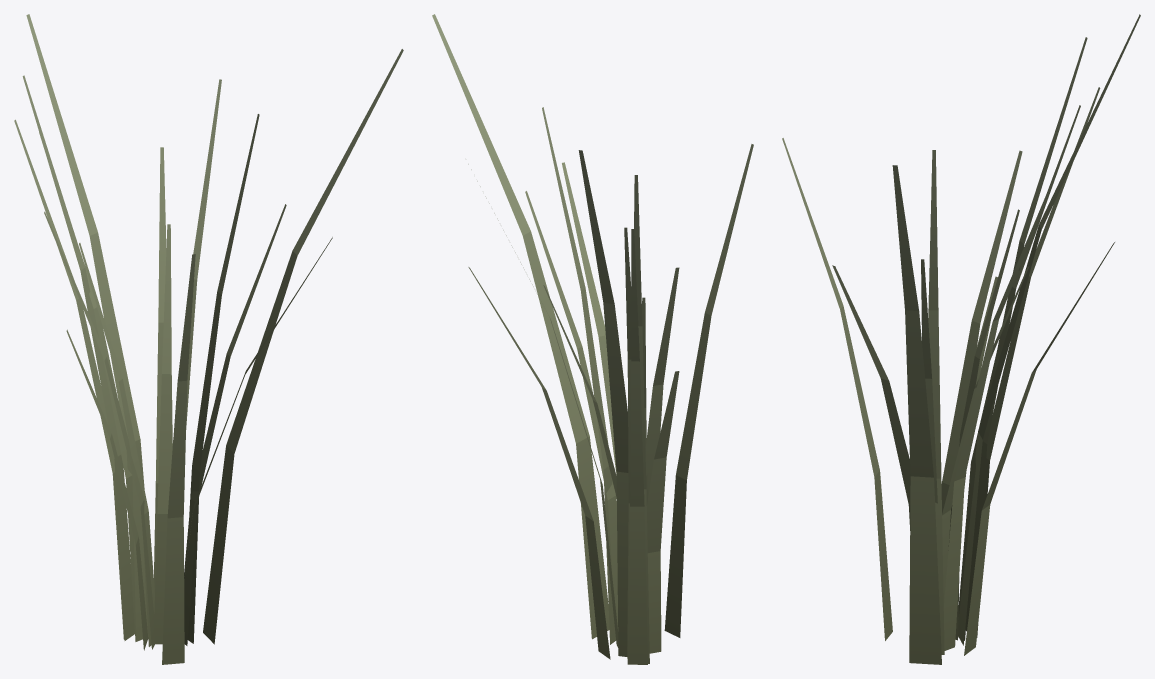
The model's file is reed_clump.glb.
3 views of the same model, side by side, from view 1: azimuth 30°, elevation 25°; view 2: azimuth 150°, elevation 25°; view 3: azimuth 270°, elevation 25° (orthographic). The views are drawn at different scales.
Visible parts, largest first — view 1: reed_clump; view 2: reed_clump; view 3: reed_clump.
Part boxes in pixels (x1=…): reed_clump: x1=14, y1=14, x2=403, y2=664; reed_clump: x1=432, y1=14, x2=753, y2=664; reed_clump: x1=782, y1=14, x2=1140, y2=664.
Size of the model in its own units: 0.9171 by 1.66 by 0.8885.
